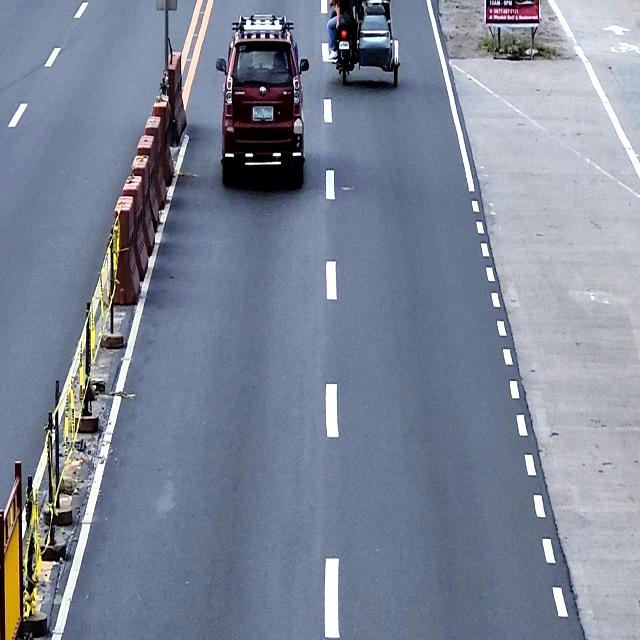Car: (215, 12, 309, 184)
License-Plate: (251, 103, 274, 122), (338, 40, 349, 50)
Tricycle: (334, 0, 400, 88)
